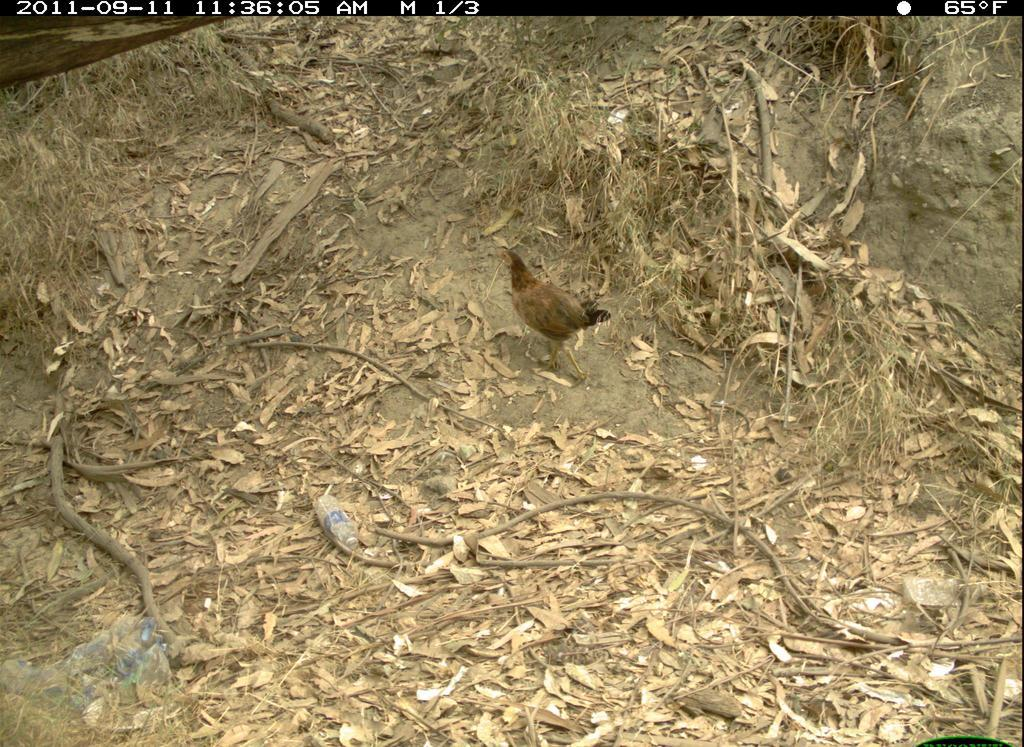bird: (496, 240, 617, 379)
